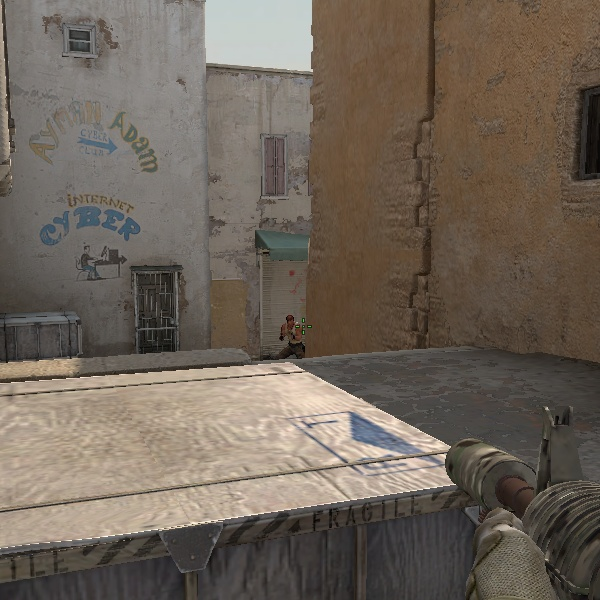t_body: (274, 314, 311, 357)
t_head: (285, 314, 296, 328)
